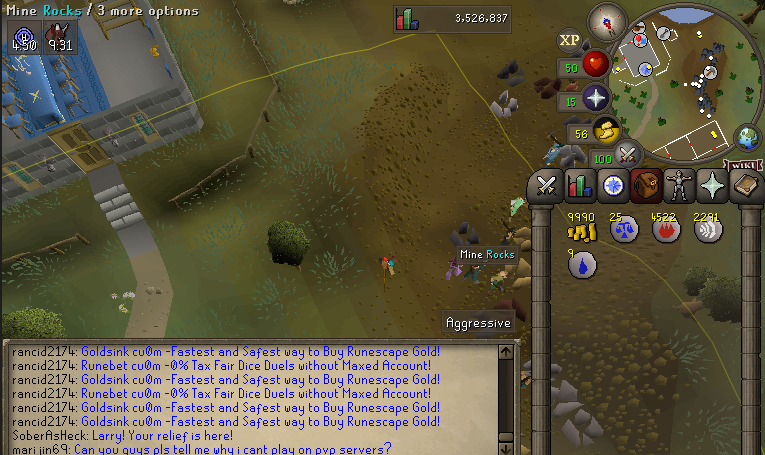depleted: (448, 219, 484, 253), (498, 59, 528, 89), (561, 113, 592, 130)
iron: (495, 293, 531, 325), (536, 73, 562, 100)
